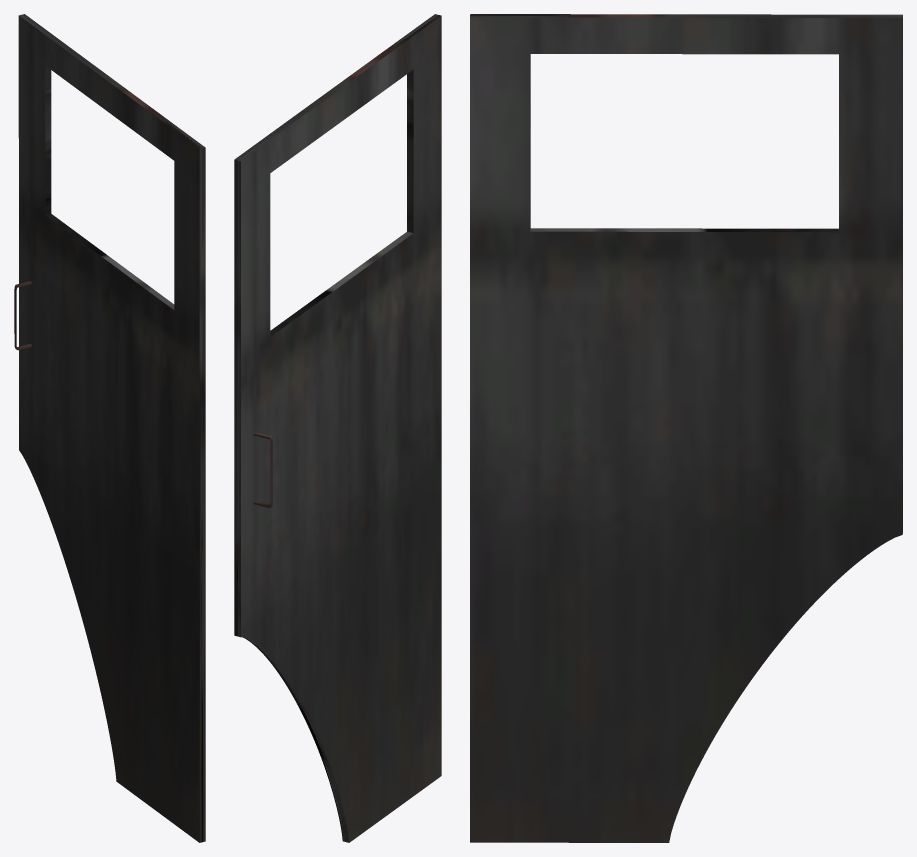
The model's file is Auxiliary Tender1B door.fbx.
3 views of the same model, side by side, from view 1: azimuth 30°, elevation 25°; view 2: azimuth 150°, elevation 25°; view 3: azimuth 270°, elevation 25° (orthographic). The views are drawn at different scales.
Parts seen in each view (by area): view 1: Cube.001; view 2: Cube.001; view 3: Cube.001.
Part boxes in pixels (left/top/right/bottom): Cube.001: left=14, top=14, right=205, bottom=842; Cube.001: left=234, top=14, right=441, bottom=842; Cube.001: left=470, top=14, right=902, bottom=842.
Bounding box in the file's own units: 5.02 × 151 × 71.92.
